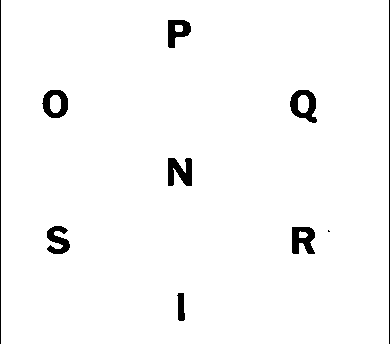I: (172, 289, 194, 326)
